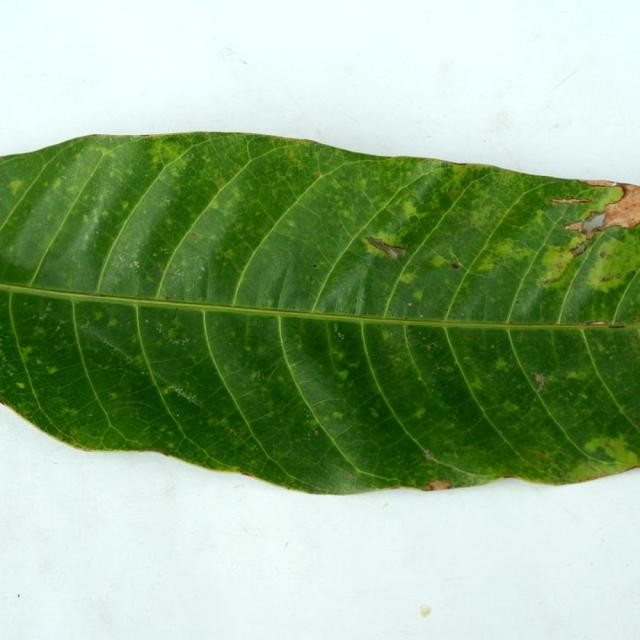Mango: (0, 133, 639, 493)
Powdery_Mildew: (536, 238, 588, 288), (587, 246, 635, 294), (144, 138, 201, 175), (577, 433, 632, 465), (465, 204, 505, 233), (486, 238, 528, 264), (398, 195, 426, 225), (361, 234, 393, 257), (427, 254, 452, 270), (7, 178, 25, 196), (493, 357, 510, 372), (398, 271, 417, 284), (501, 400, 519, 413), (565, 370, 586, 381), (209, 198, 223, 211), (412, 407, 426, 419), (411, 289, 424, 301), (223, 248, 236, 260), (51, 177, 62, 190), (336, 370, 349, 381), (339, 209, 351, 220), (167, 328, 178, 339), (284, 219, 296, 229), (368, 407, 379, 417), (107, 317, 118, 327), (248, 371, 259, 381), (21, 346, 33, 355), (332, 411, 344, 420), (119, 201, 129, 211), (47, 366, 59, 374), (108, 392, 119, 399), (82, 214, 90, 223), (16, 382, 25, 389), (334, 195, 341, 202), (244, 346, 251, 352)
